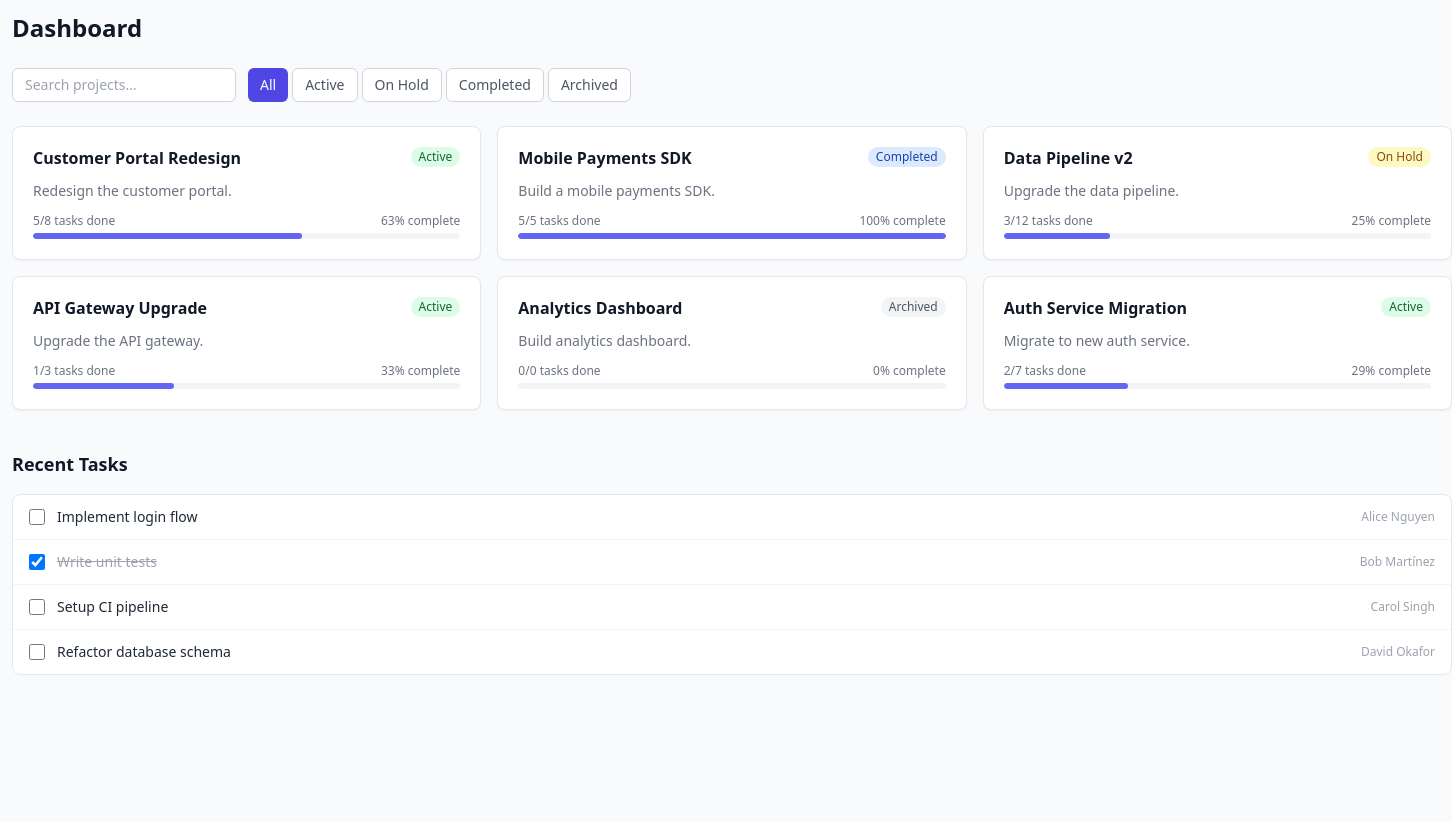
Dashboard › shows empty state when no projects match
Expected: the heading "Customer Portal Redesign" is shown, [33,147,241,169]
Step 1. Type "xyznonexistent" into the search field → point(124, 85), box [12,68,236,102]
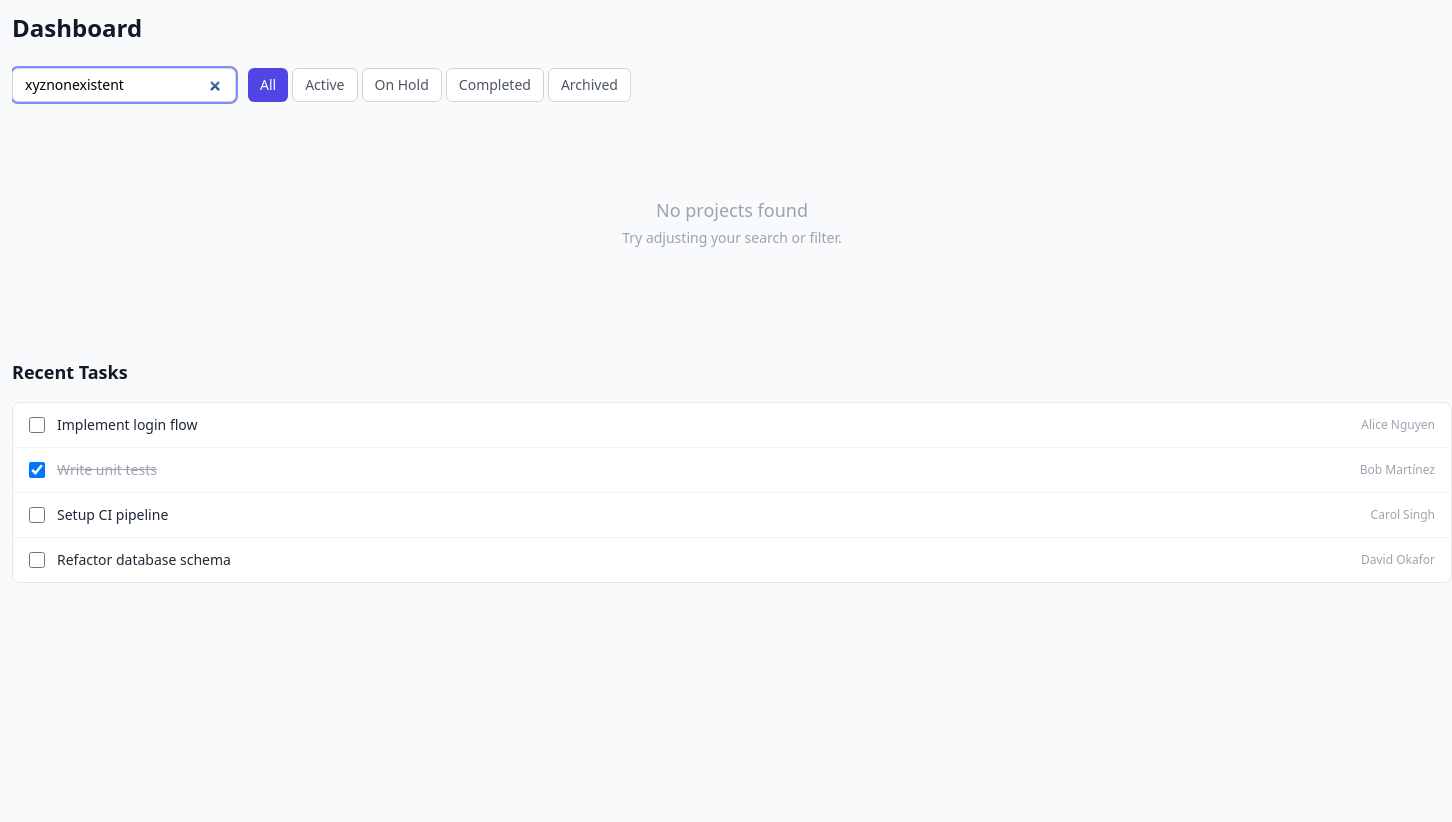
Result: the text "No projects found" is shown at [656,196,808,224]
